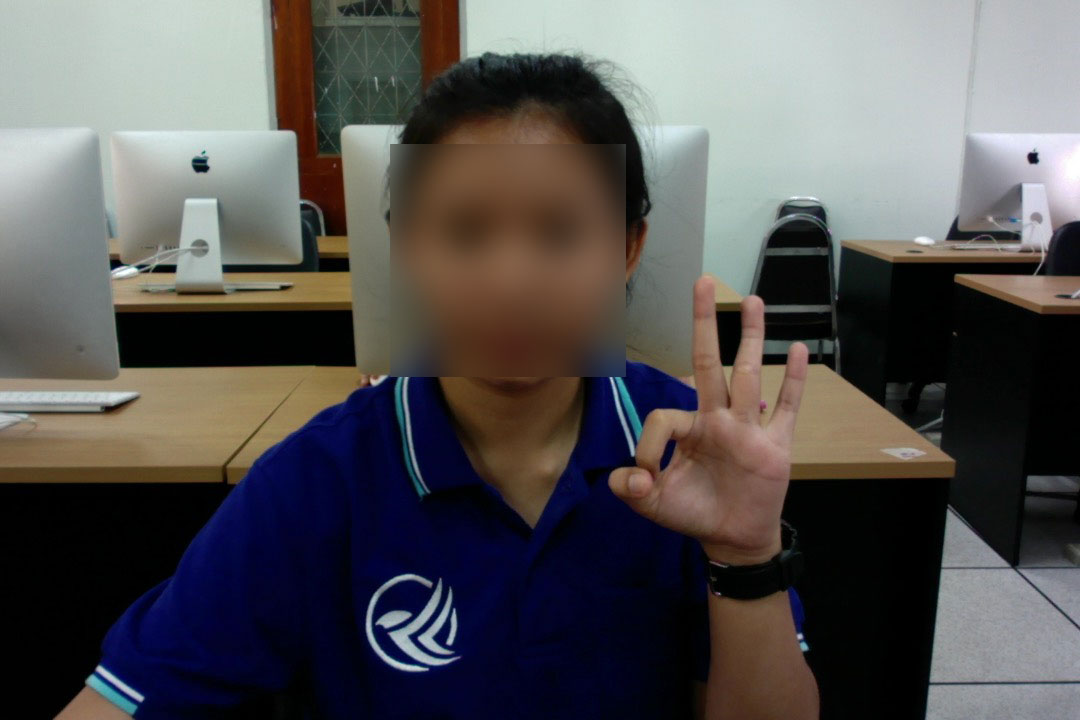for: (597, 268, 819, 559)
